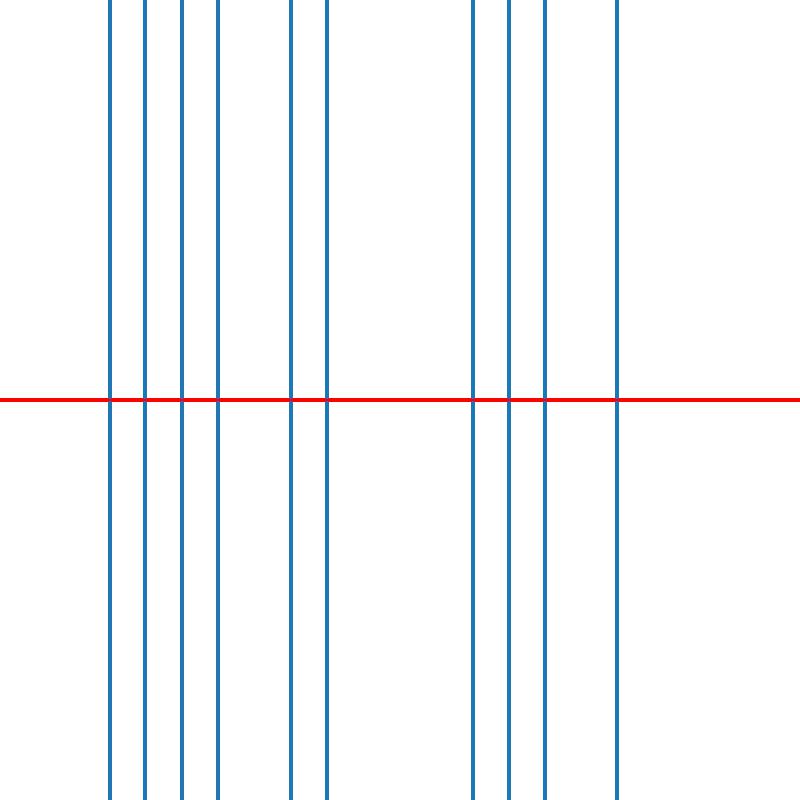root: (541, 396, 549, 404), (141, 396, 149, 404), (178, 396, 185, 404), (505, 396, 512, 404), (214, 396, 221, 404), (105, 396, 112, 404), (469, 396, 476, 404), (614, 396, 621, 404), (287, 396, 294, 404), (323, 396, 330, 404)
